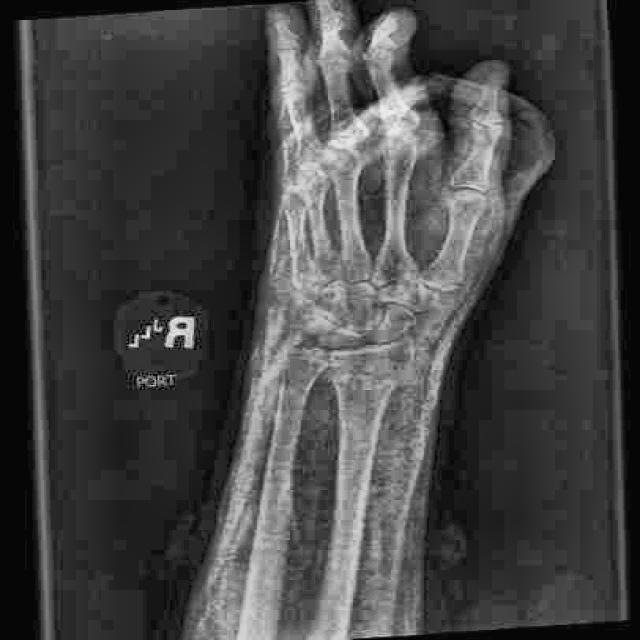fingers positive: (246, 340, 452, 422)
